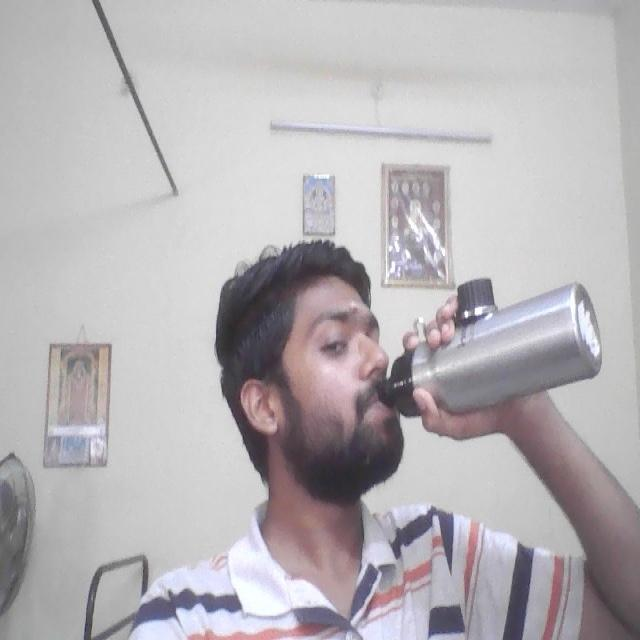Drinking: (369, 266, 613, 413)
